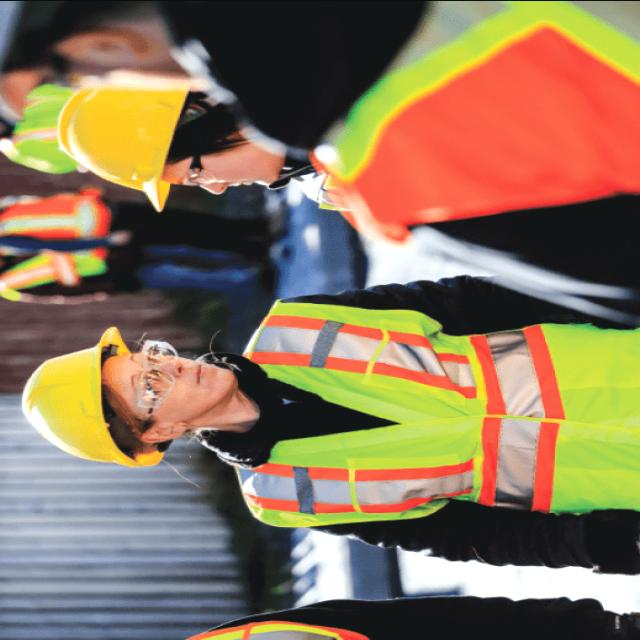Hard Hat: (17, 324, 162, 476), (54, 78, 194, 218)
Reflective Vest: (233, 305, 636, 527), (306, 1, 640, 234), (0, 190, 126, 304), (136, 606, 394, 636)
Safety Glasses: (126, 340, 180, 447), (180, 111, 217, 195)
